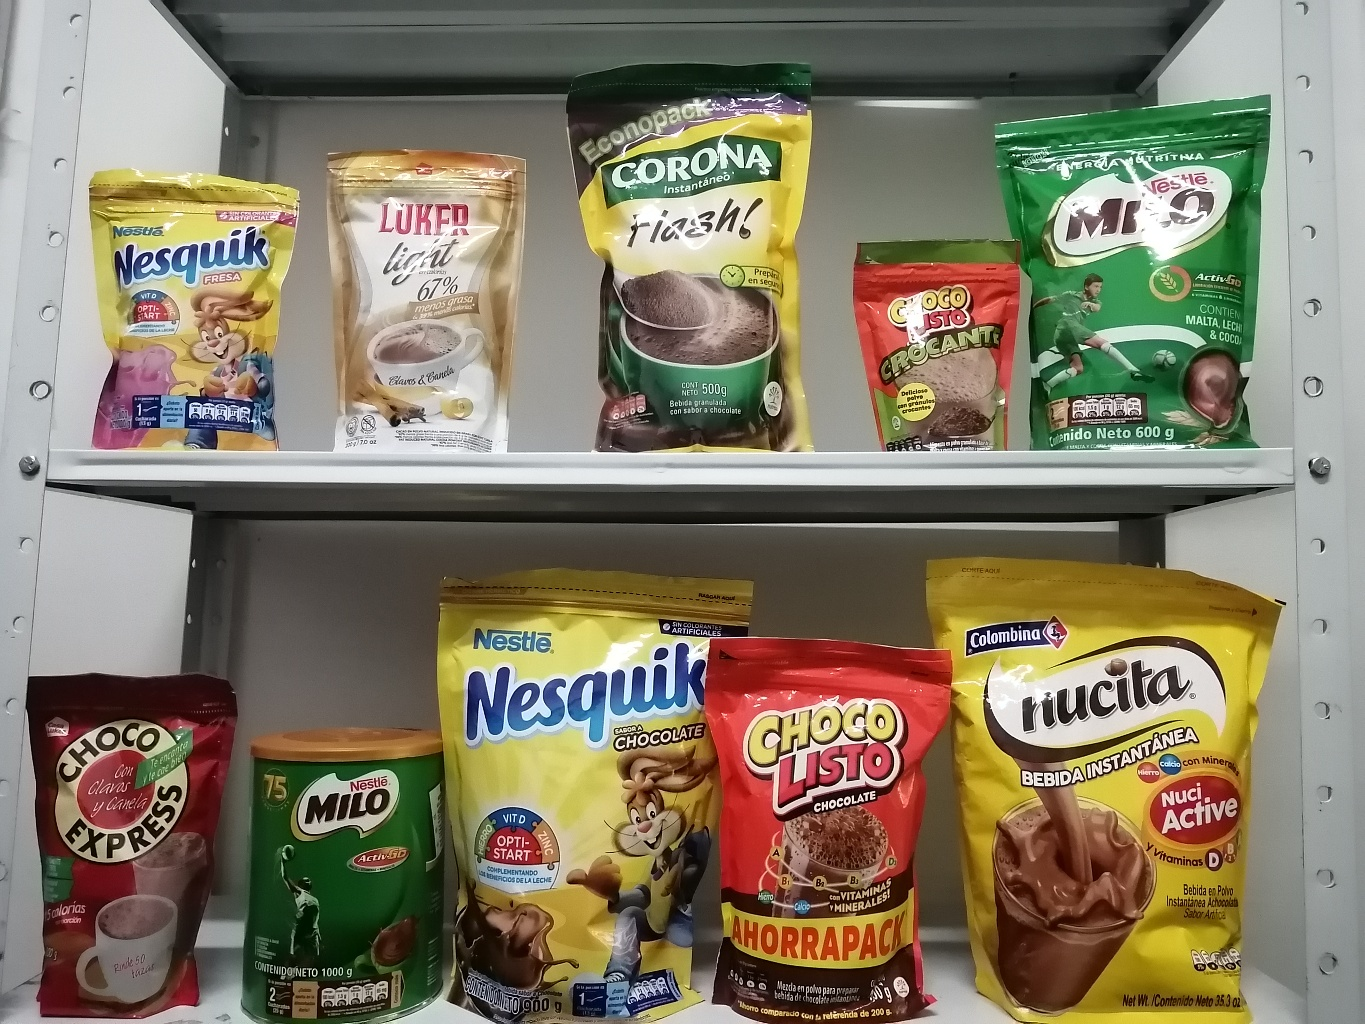COL0170102DYP10000: (850, 228, 1030, 454)
COL0170103DYP40000: (694, 631, 1003, 1020)
COL0170305DYP20000: (58, 144, 311, 456)
